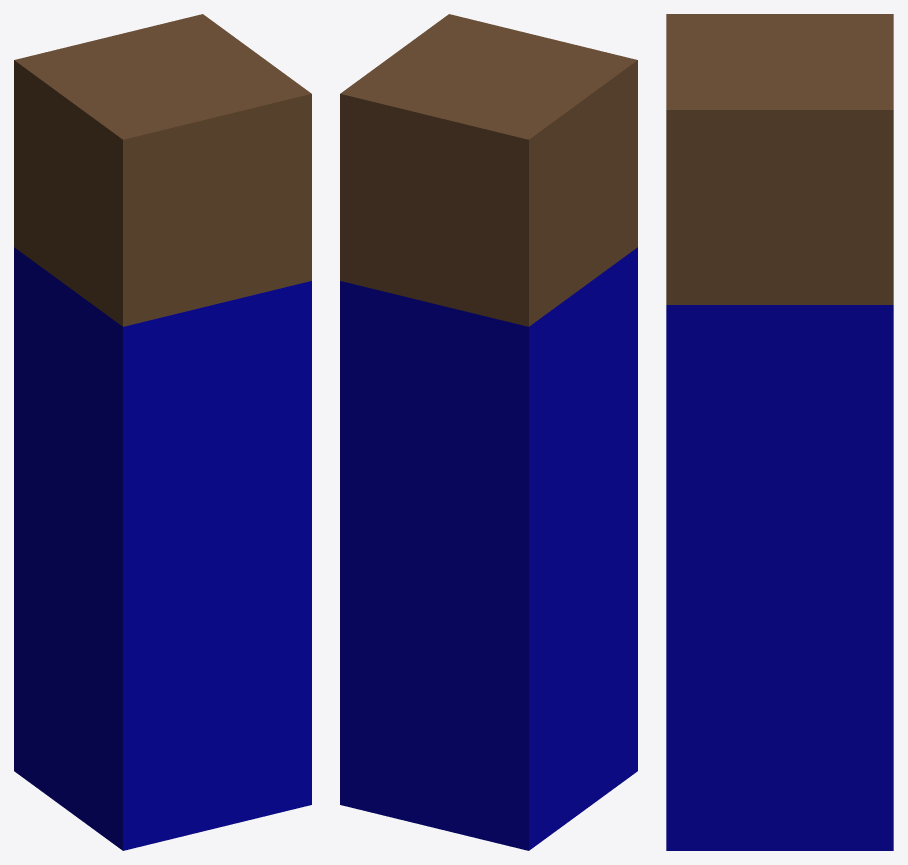
Rendered from NPC.glb.
3 views of the same model, side by side, from view 1: azimuth 30°, elevation 25°; view 2: azimuth 150°, elevation 25°; view 3: azimuth 270°, elevation 25° (orthographic). The views are drawn at different scales.
Parts seen in each view (by area): view 1: NPC; view 2: NPC; view 3: NPC.
Boxes of the visible parts, <box> form: NPC: <box>14,14,311,850</box>; NPC: <box>340,14,637,850</box>; NPC: <box>666,14,893,850</box>.
Size of the model in its own units: 0.5 by 1.8 by 0.5.
